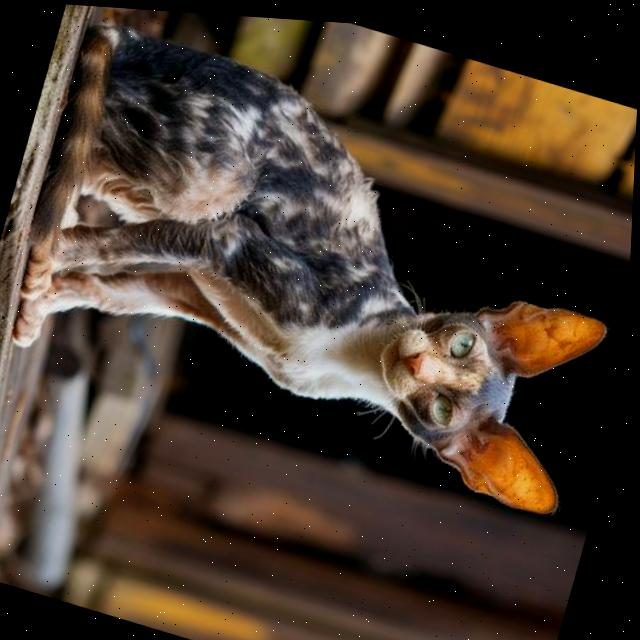Cornish Rex: (0, 5, 640, 525)
